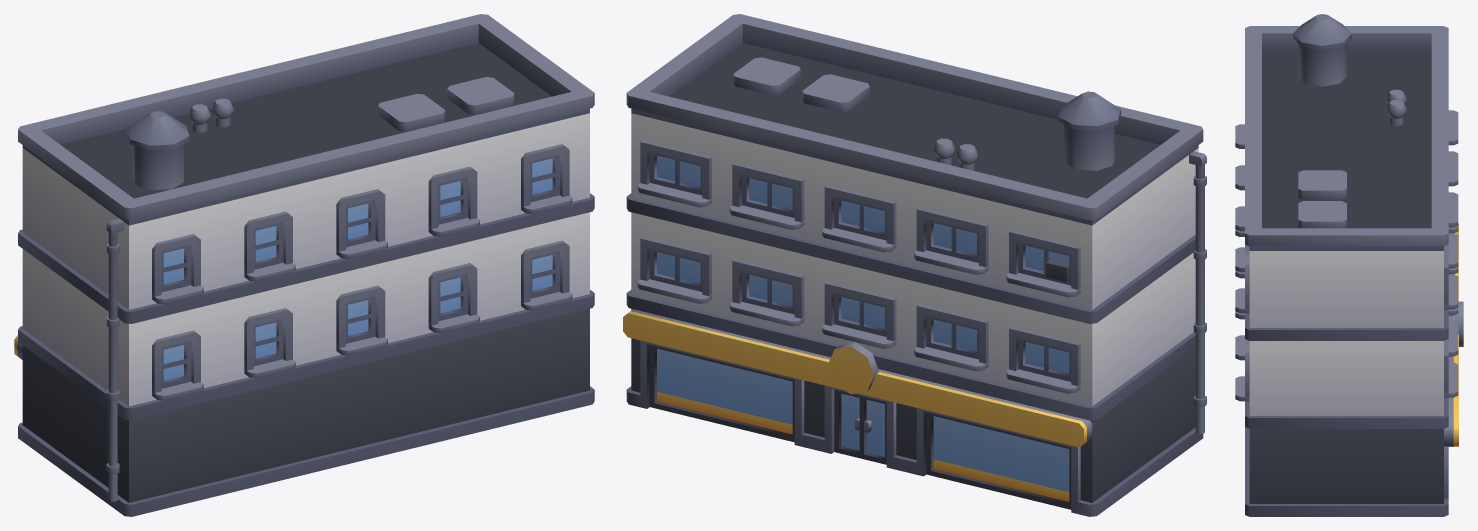
Rendered from commercial-building-k.glb.
3 views of the same model, side by side, from view 1: azimuth 30°, elevation 25°; view 2: azimuth 150°, elevation 25°; view 3: azimuth 270°, elevation 25° (orthographic). The views are drawn at different scales.
Parts seen in each view (by area): view 1: building-k; view 2: building-k; view 3: building-k.
Boxes of the visible parts, box(x1,y1,x2,y2) form: building-k: box(14, 14, 594, 516); building-k: box(623, 14, 1206, 516); building-k: box(1235, 14, 1463, 516).
Bounding box in the file's own units: 2.08 × 1.47 × 0.9419.
Materials: 1 (1 with a texture image).
